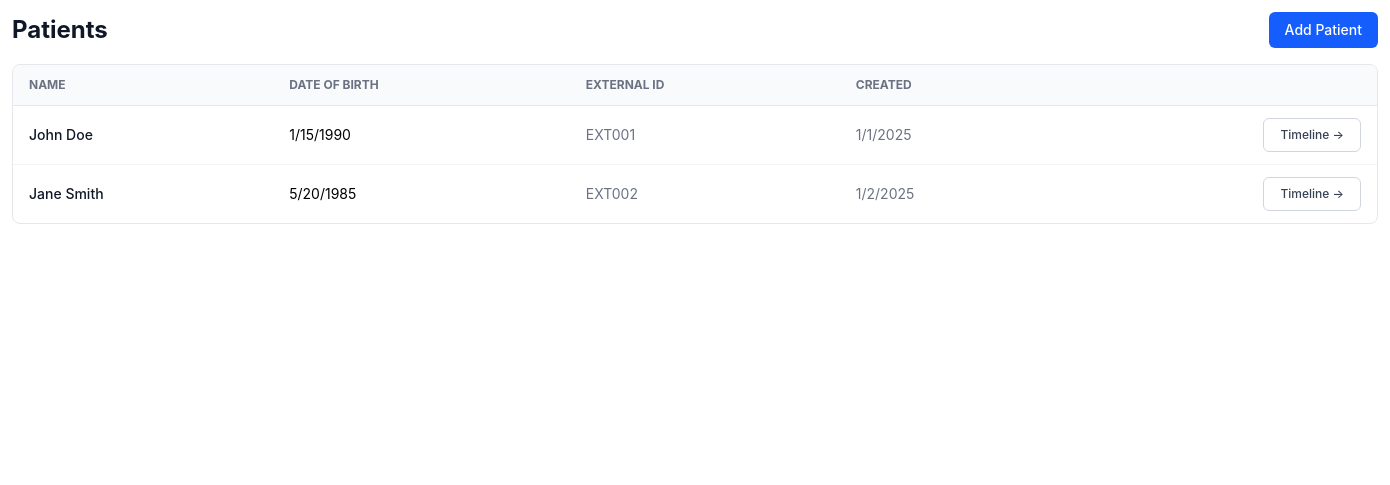
Patients page › creates patient on form submit
Expected: the text "John Doe" is shown, [13,106,273,164]
Click the button "Add Patient" at (1323, 30), box [1269,12,1378,48]
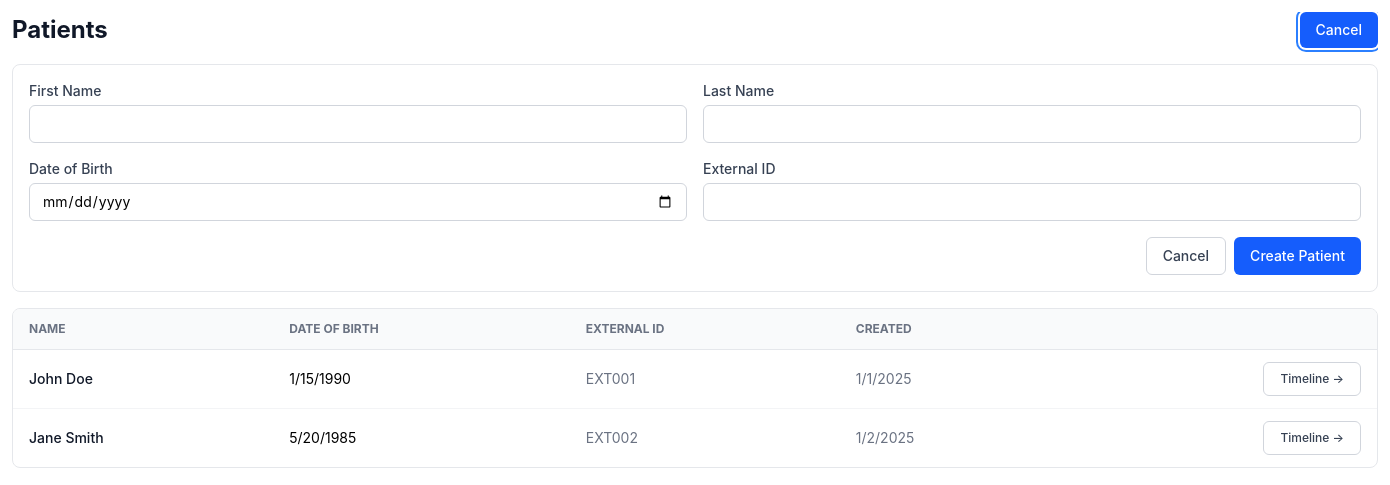
Type "Test" into the field labelled "First Name" at (358, 124), box [29,105,687,143]
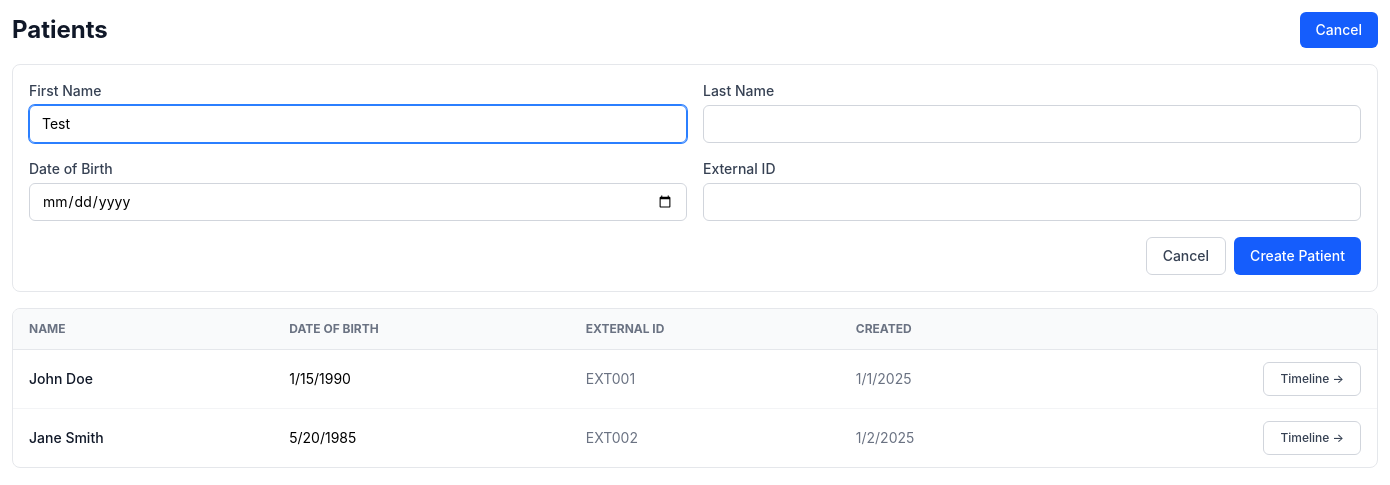
Type "User" into the field labelled "Last Name" at (1032, 124), box [703,105,1361,143]
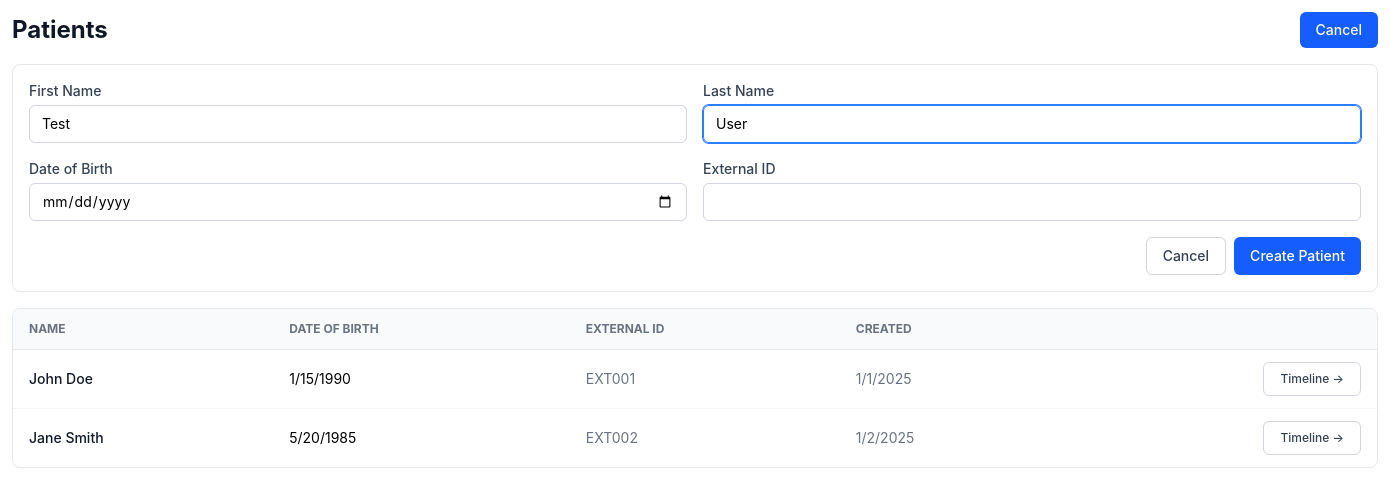
Type "EXT003" into the field labelled "External ID" at (1032, 202), box [703,183,1361,221]
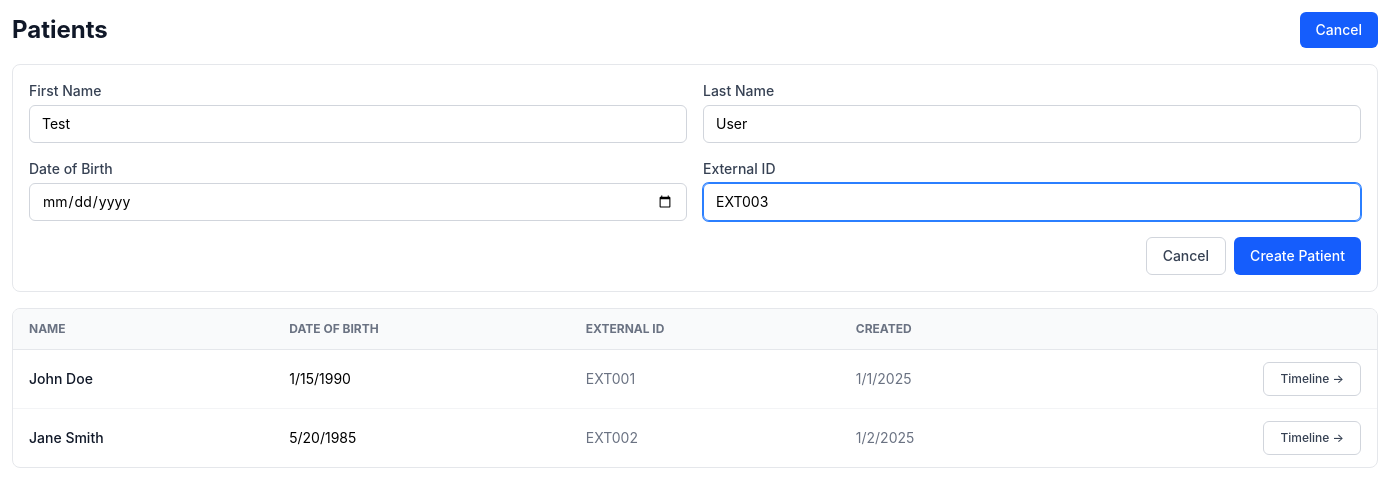
Type "2000-01-01" into the date field labelled "Date of Birth" at (358, 202), box [29,183,687,221]
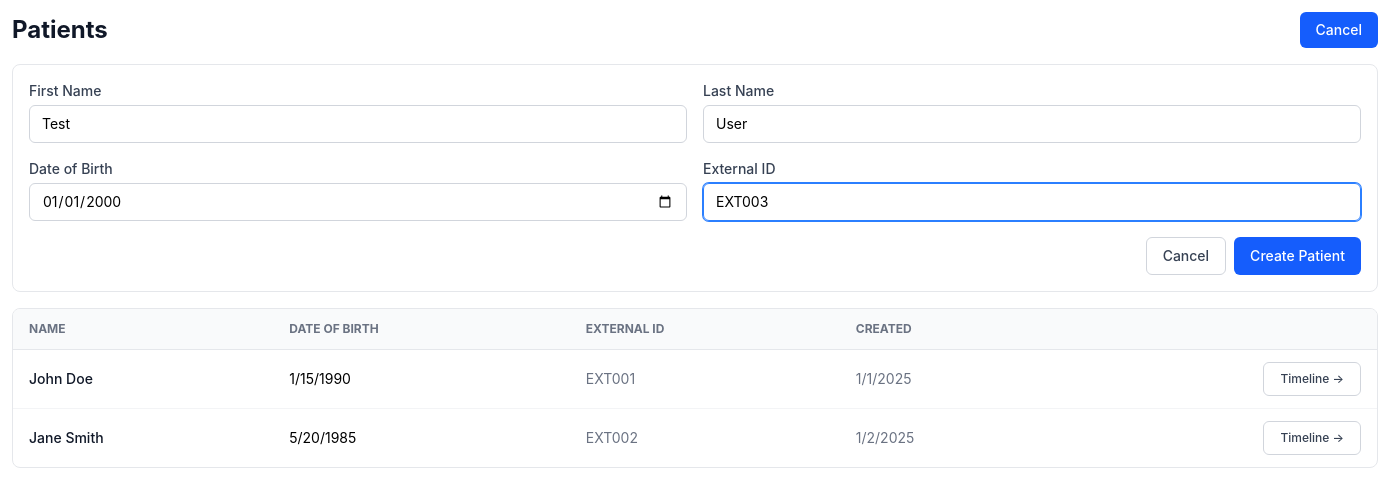
Click the button "Create Patient" at (1298, 256), box [1234,237,1361,275]
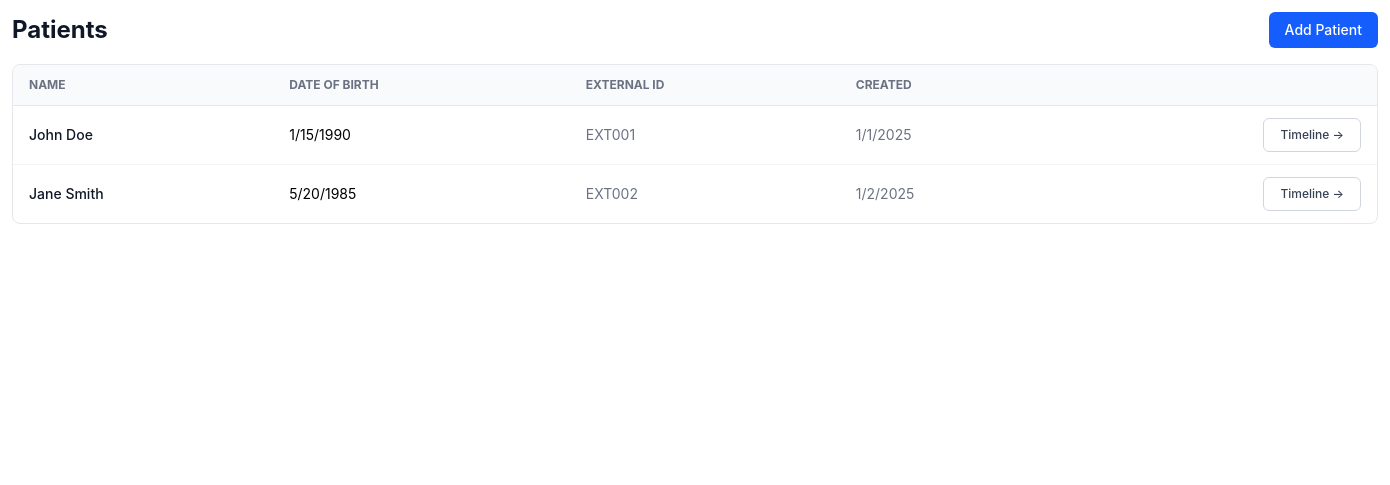
Expected: the label labelled "First Name" is gone
